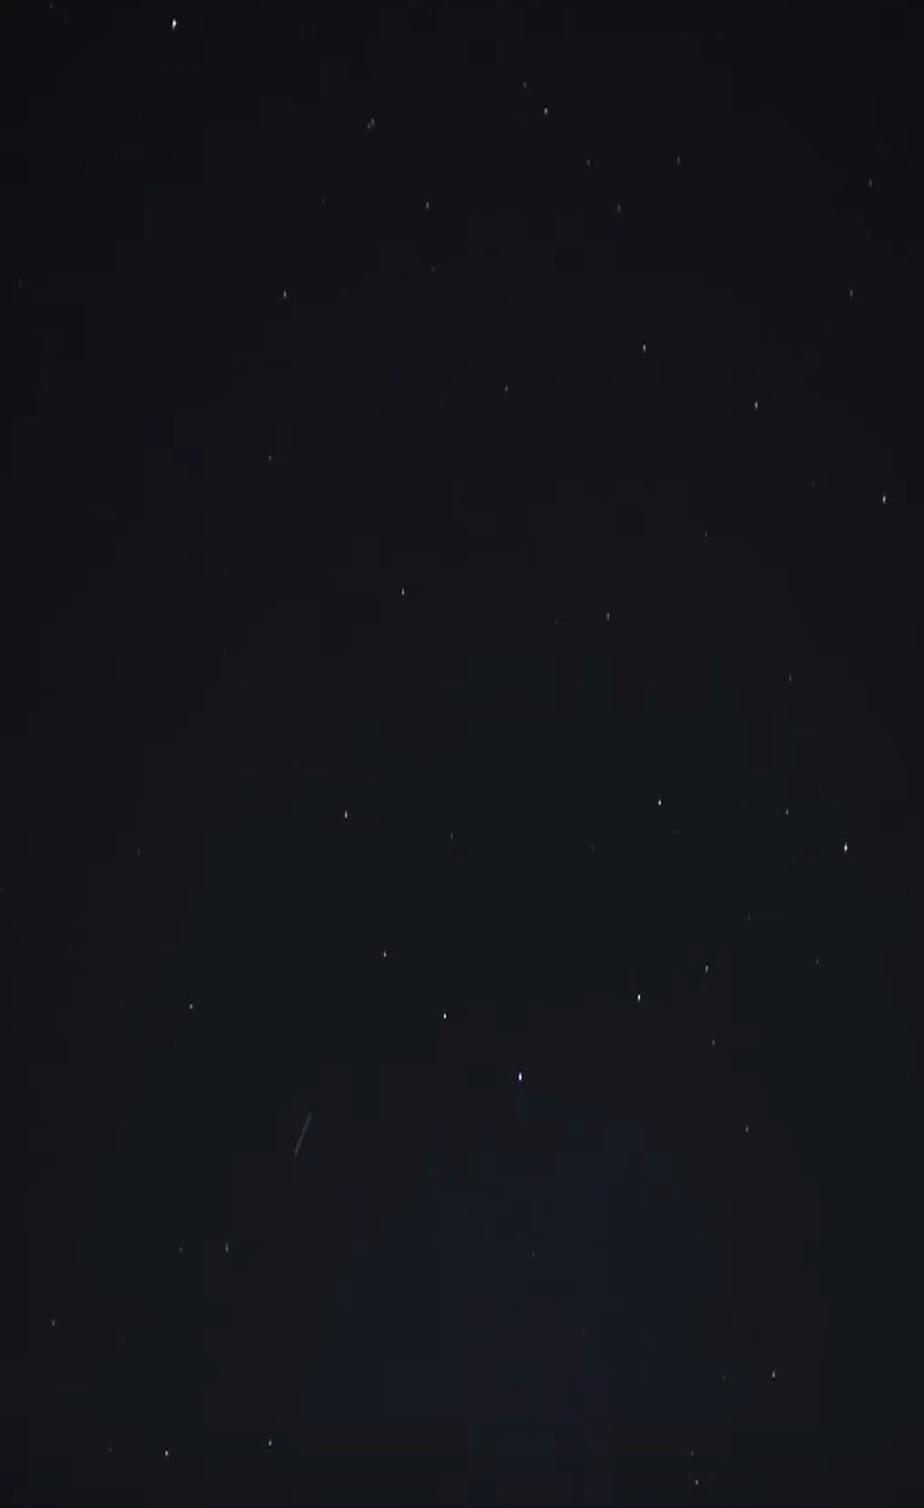meteorite: (265, 1097, 340, 1170)
